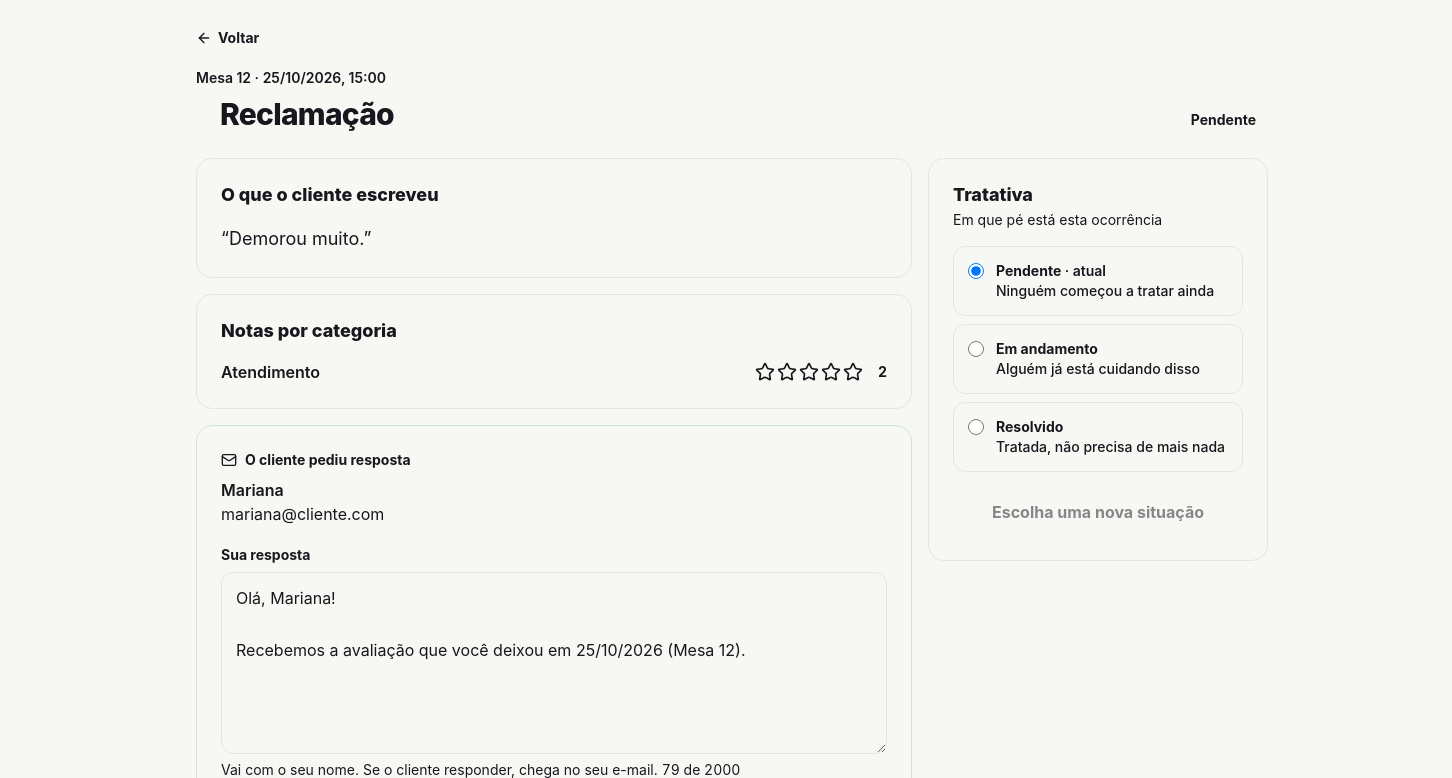
Test: responder pelo Echo › enquanto envia, o botão trava: dois cliques não mandam dois e-mails
Expected: the heading "O que o cliente escreveu" is shown, left=221, top=184, right=439, bottom=205
In the text box labelled "Sua resposta": coordinates (554, 662) left=221, top=572, right=887, bottom=754, type "Oi"
(page scrolled)
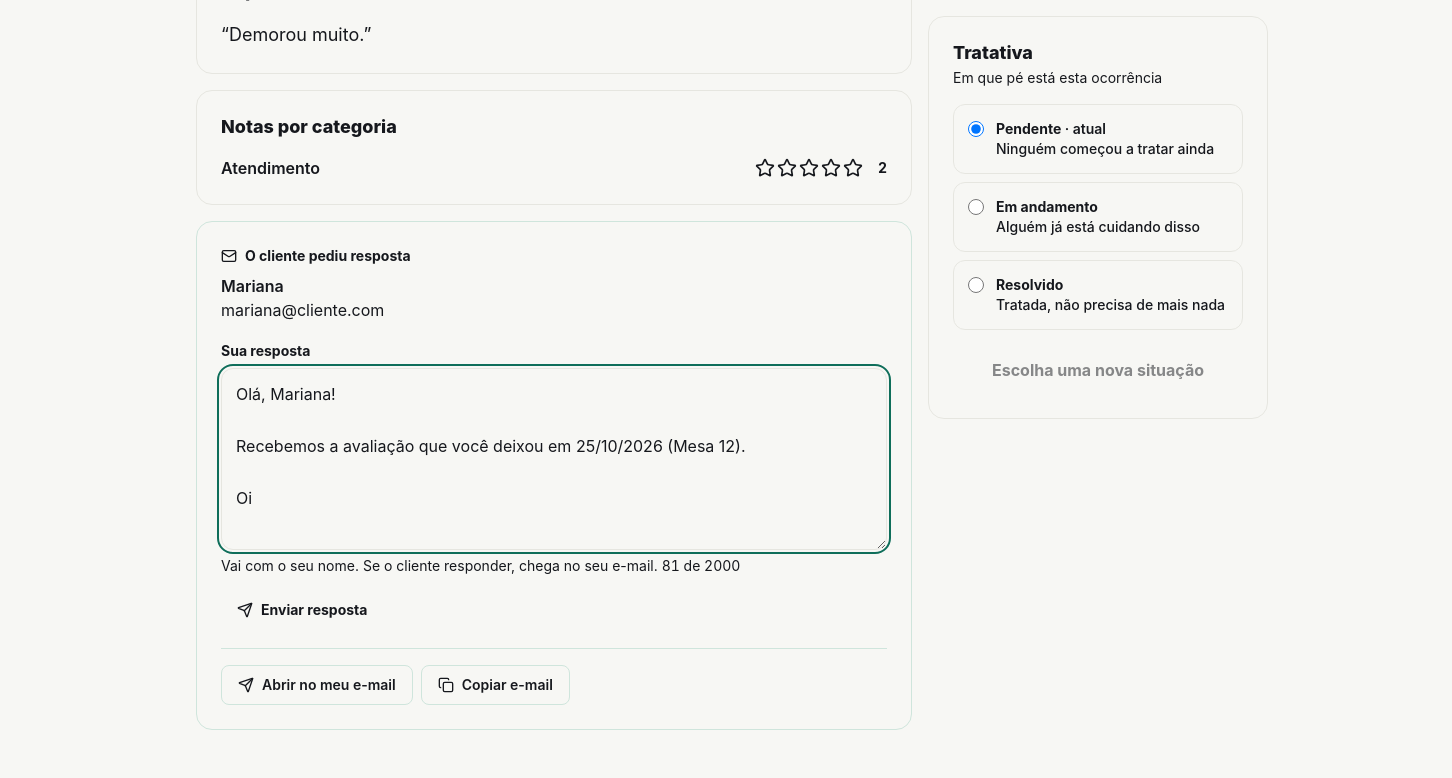
Click the button "Enviar resposta": coordinates (302, 610) left=221, top=588, right=383, bottom=632
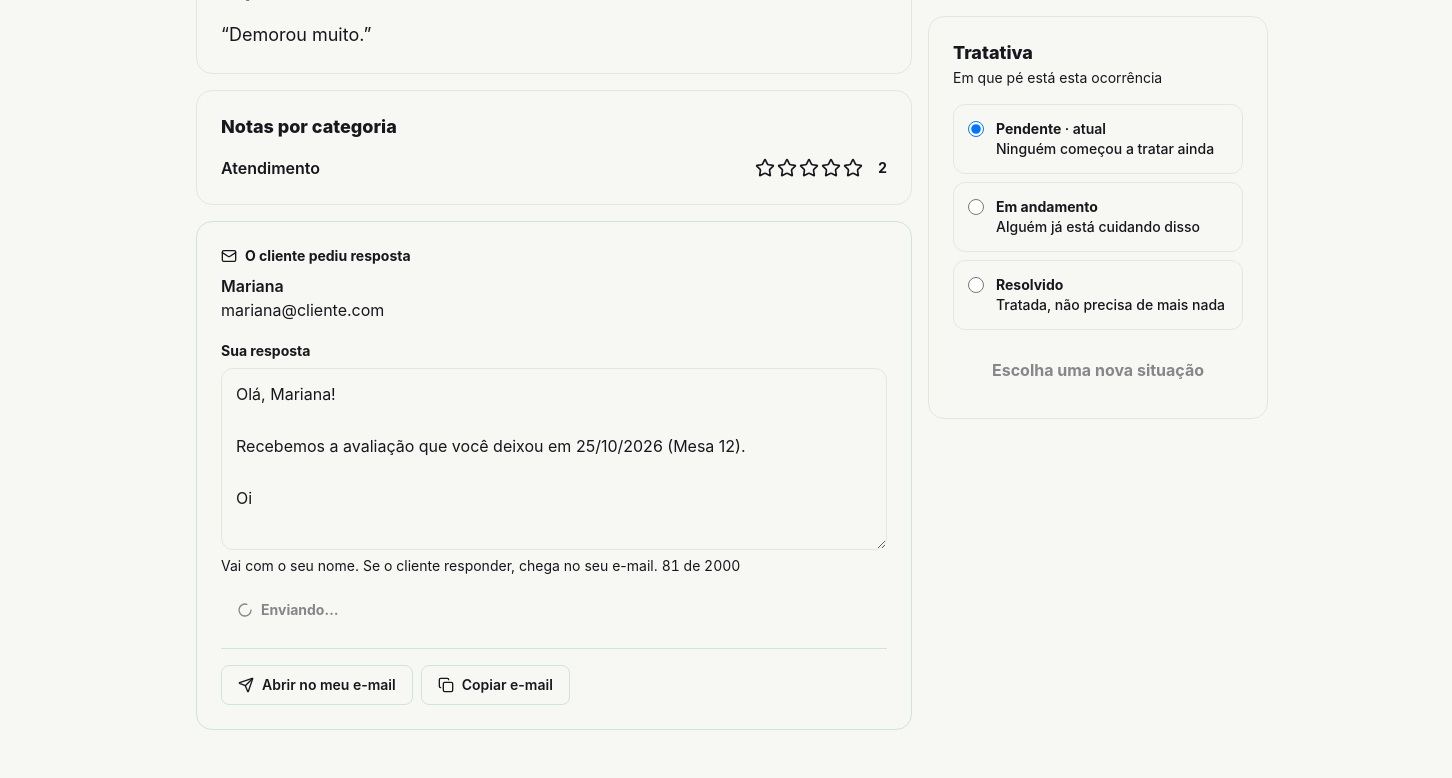
Result: the button "Enviando…" is disabled
Click the button "Enviando…": coordinates (288, 610) left=221, top=588, right=354, bottom=632
(page scrolled)
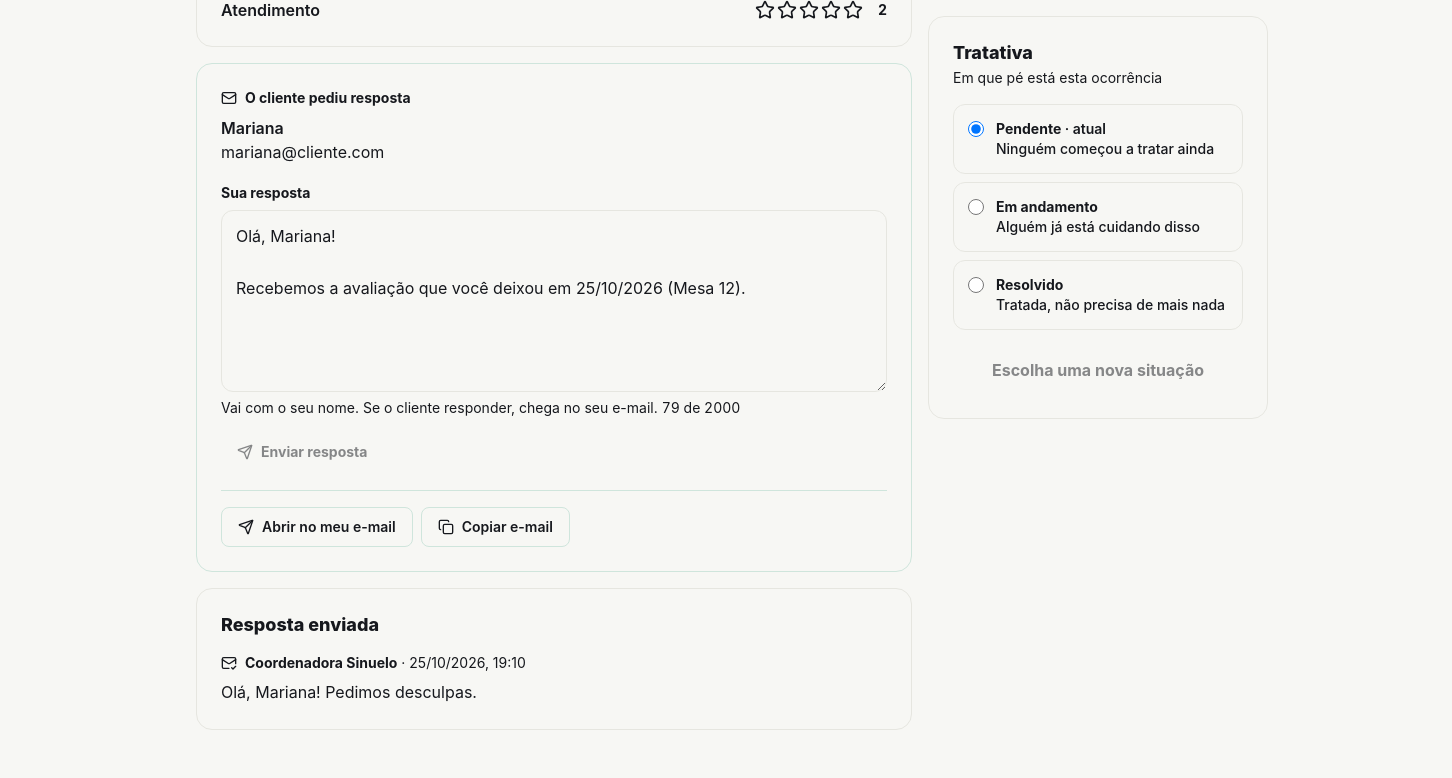
Result: the element "Resposta enviada" is shown at left=196, top=588, right=912, bottom=730
